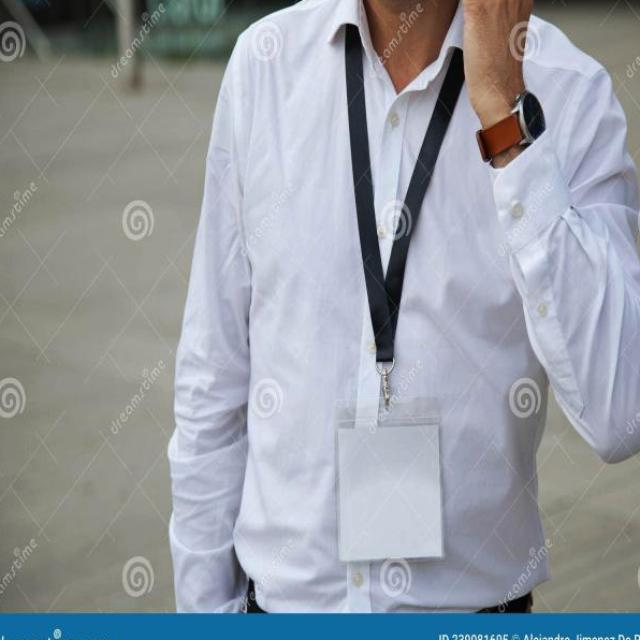ID_card: (340, 28, 457, 570)
